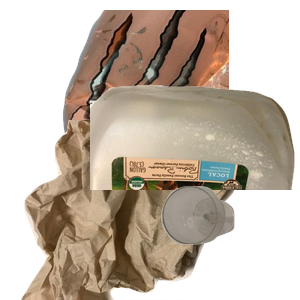glass: (159, 184, 300, 300)
metal: (60, 10, 300, 190)
plastic: (90, 82, 300, 262)
trash: (19, 120, 249, 300)
